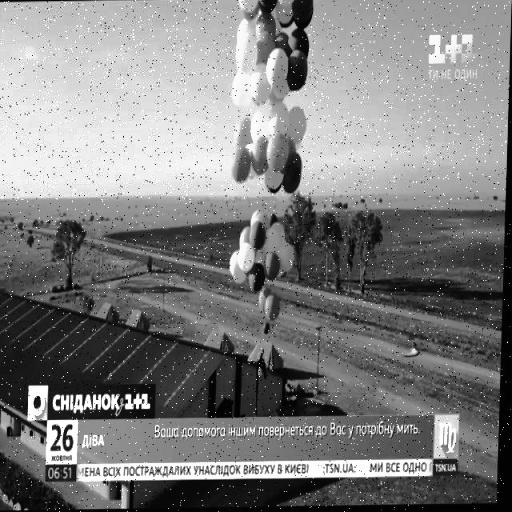balloon: (268, 49, 290, 89), (268, 134, 290, 172), (237, 38, 259, 76), (256, 33, 276, 72), (252, 65, 272, 104), (288, 52, 308, 90), (251, 138, 270, 176), (232, 148, 252, 184), (290, 28, 312, 60), (285, 158, 304, 193), (233, 76, 252, 110), (288, 108, 308, 140), (270, 102, 290, 133), (252, 110, 271, 139), (256, 15, 278, 39), (293, 0, 313, 26), (235, 21, 258, 43), (235, 120, 253, 146), (251, 264, 267, 292), (282, 244, 296, 274), (265, 254, 280, 281), (267, 228, 282, 255), (233, 253, 246, 283), (241, 244, 256, 270), (261, 288, 275, 315), (252, 222, 266, 249), (265, 170, 286, 188), (276, 2, 294, 23), (269, 295, 282, 322), (276, 222, 288, 246), (240, 226, 254, 246), (276, 33, 290, 50), (240, 0, 258, 12), (258, 0, 276, 12), (271, 92, 286, 106), (260, 213, 270, 230), (276, 0, 296, 8), (271, 214, 280, 226), (266, 324, 272, 333)
